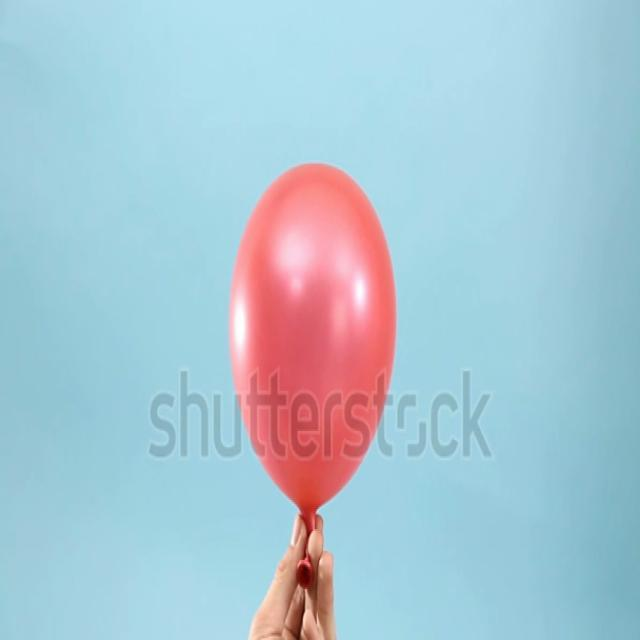red: (227, 160, 397, 537)
